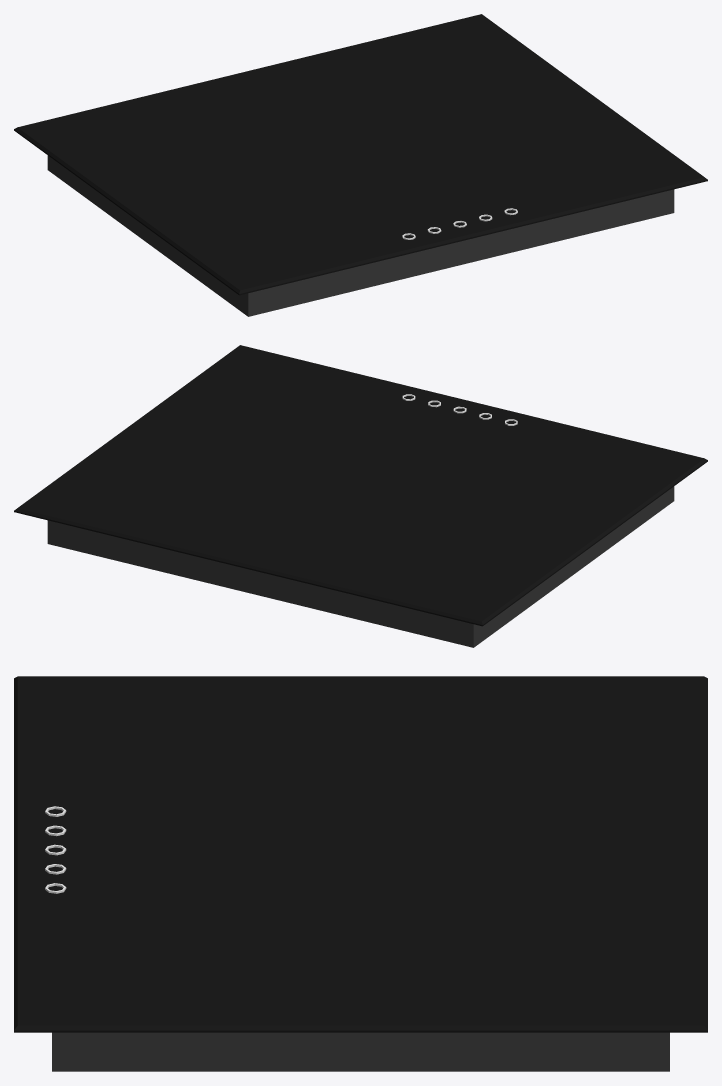
The model's file is KA-F600_BI_Stove_V2.glb.
3 views of the same model, one above another, from view 1: azimuth 30°, elevation 25°; view 2: azimuth 150°, elevation 25°; view 3: azimuth 270°, elevation 25° (orthographic). The views are drawn at different scales.
Visible parts, largest first — view 1: KA-F600_BI_Stove_V2; view 2: KA-F600_BI_Stove_V2; view 3: KA-F600_BI_Stove_V2.
Part boxes in pixels (bbox=[...]): KA-F600_BI_Stove_V2: bbox=[14, 14, 707, 316]; KA-F600_BI_Stove_V2: bbox=[14, 345, 707, 647]; KA-F600_BI_Stove_V2: bbox=[14, 676, 707, 1071].
Bounding box in the file's own units: 0.55 × 0.0553 × 0.458.
Materials: 1 (1 with a texture image).
